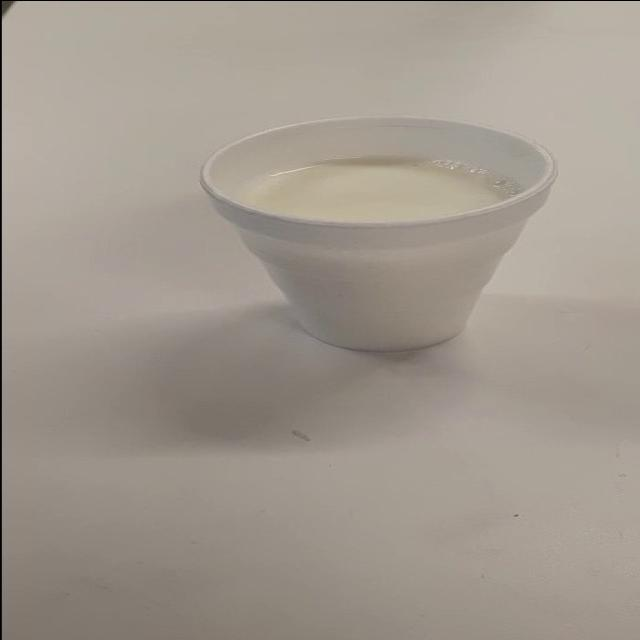Milk: (190, 104, 587, 364)
